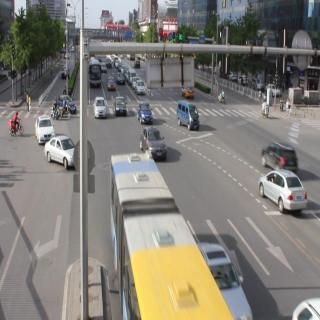BigCar: (112, 157, 214, 320), (89, 56, 102, 83)
Car: (193, 227, 262, 316), (262, 156, 300, 224), (44, 132, 81, 180), (256, 141, 313, 169), (171, 100, 202, 131), (140, 129, 166, 158), (34, 110, 54, 142), (112, 86, 130, 120), (90, 94, 104, 124), (138, 94, 153, 122), (182, 77, 195, 100), (107, 77, 116, 88)
